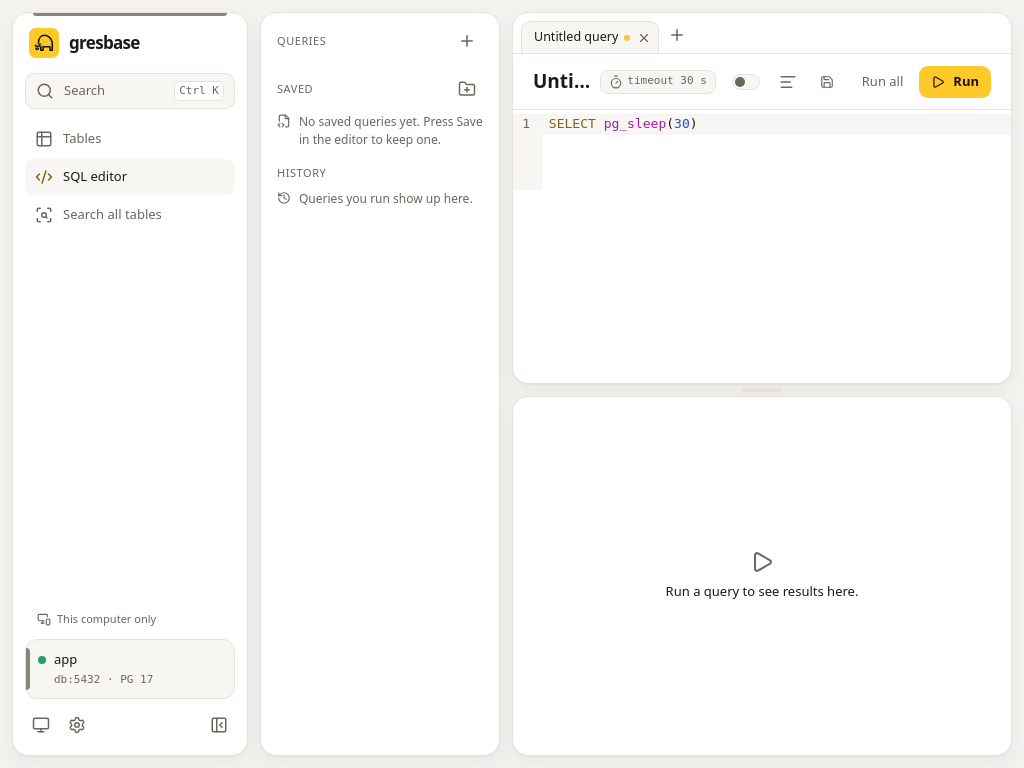
Test case: SQL editor › cancels a running query
Click the button "Run" at point(955, 82), box [919,66,991,98]
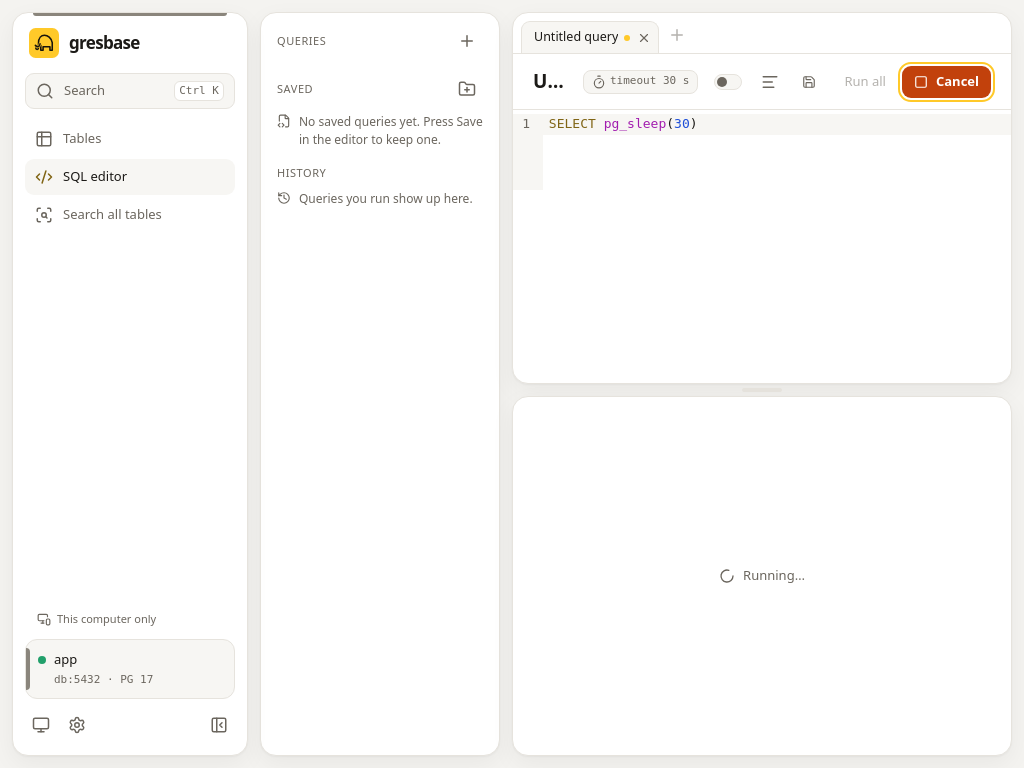
Expected: the text "Running…" is shown, [719,566,805,584]
Click the button "Cancel" at point(946, 82), box [902,66,991,98]
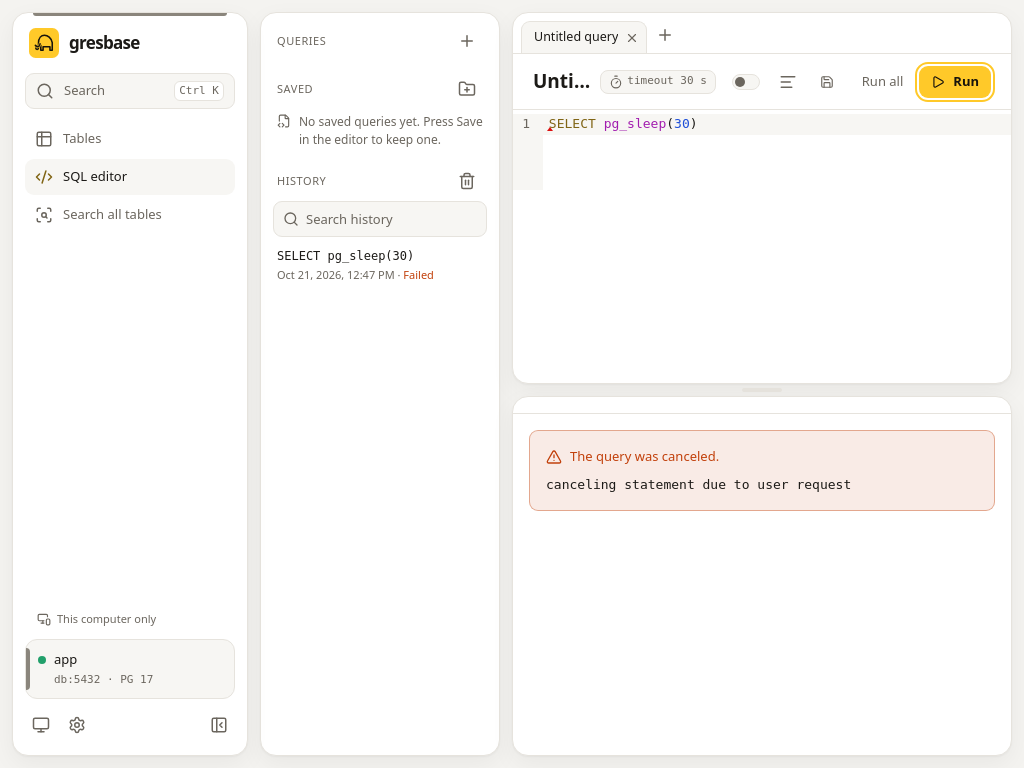
Expected: the button "Run" is enabled, [919,66,991,98]
Expected: the message "The query was canceled. canceling statement due to user request" is shown, [529,430,995,511]
